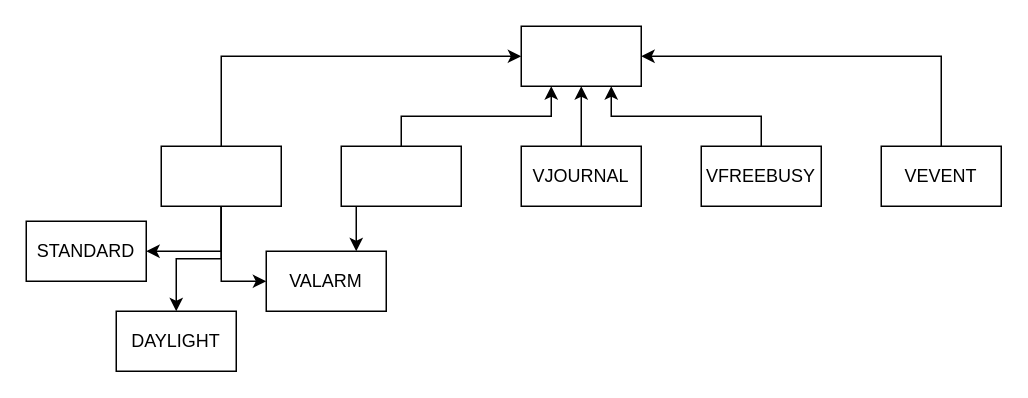
Some shapes in this 1028 by 398 pixel diagram are drawn without their labels. Each missing label, with the centre of its shape:
"VCALENDAR" belongs at (580,55).
"VTIMEZONE" belongs at (220,175).
"VTODO" belongs at (400,175).
